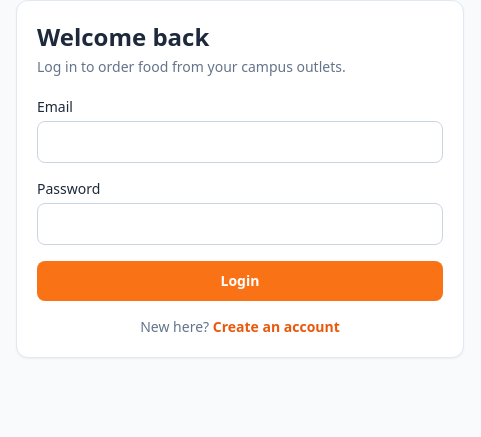
Scenario: LoginPage › shows a friendly message for invalid credentials
Type "student@example.com" into the field labelled "Email".
click(240, 142); type("student@example.com")  # box [37, 121, 443, 163]
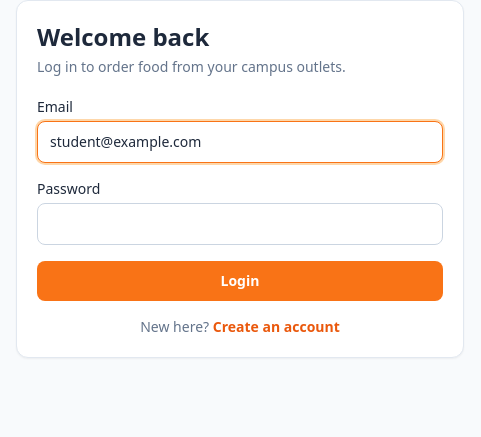
Type "wrong" into the password field labelled "Password".
click(240, 224); type("wrong")  # box [37, 203, 443, 245]
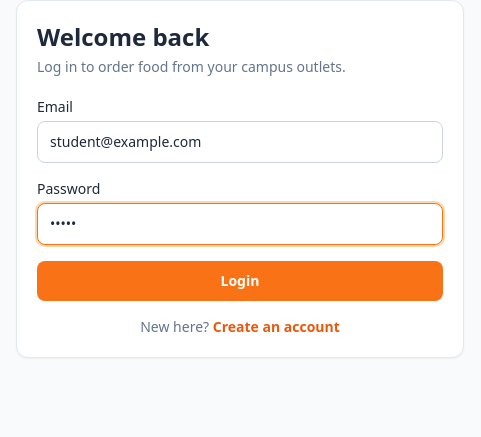
Click the button "Login".
click(240, 281)  # box [37, 261, 443, 301]
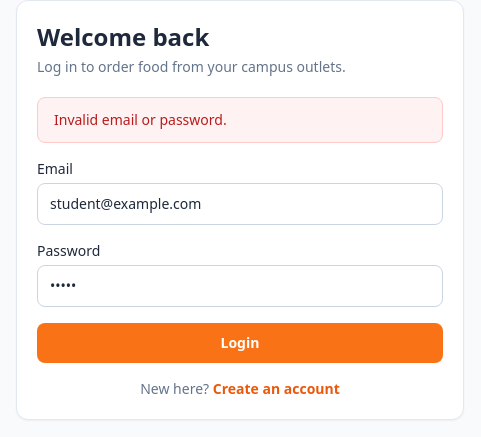
Expected: the button "Login" is enabled, [37, 323, 443, 363]
Now the message reads "Invalid email or password.", box [54, 110, 227, 129]
